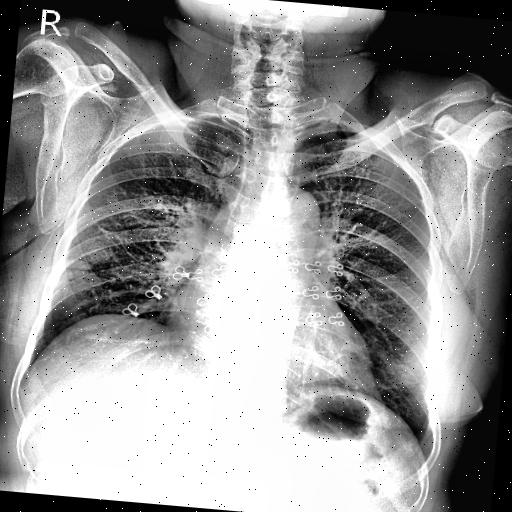0- Aortic enlargement: (258, 182, 323, 248), (262, 186, 322, 244)
3- Cardiomegaly: (160, 293, 388, 407), (162, 292, 384, 396), (158, 297, 378, 395)
7- Lung Opacity: (60, 259, 92, 271)
